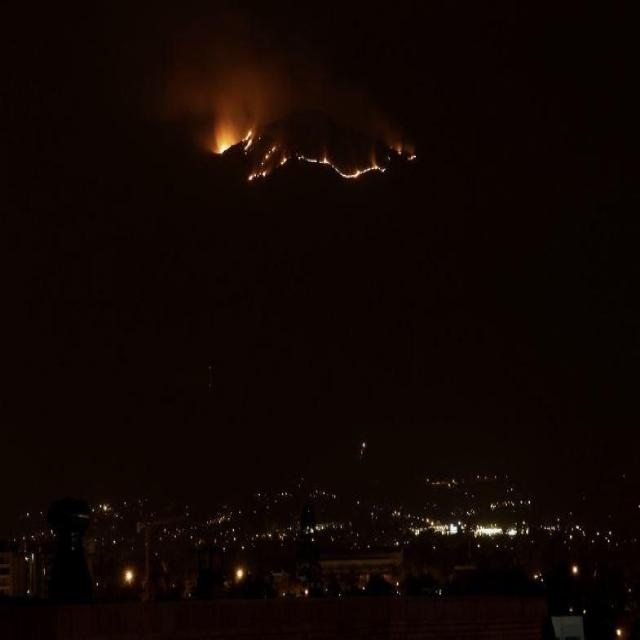Fire: (243, 134, 388, 191), (214, 121, 253, 158), (394, 142, 402, 160), (408, 152, 418, 162)
